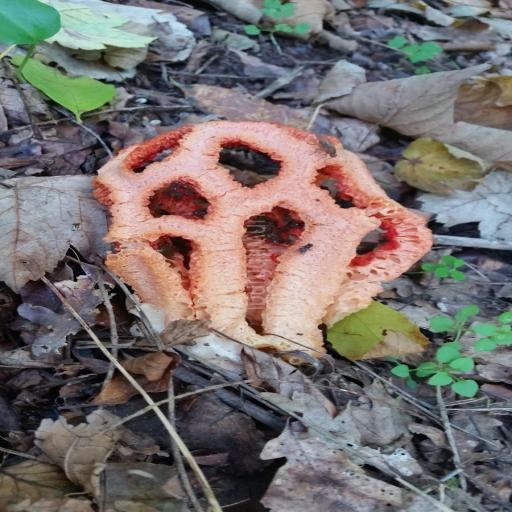Red Cage Fungus: (97, 116, 431, 371)
